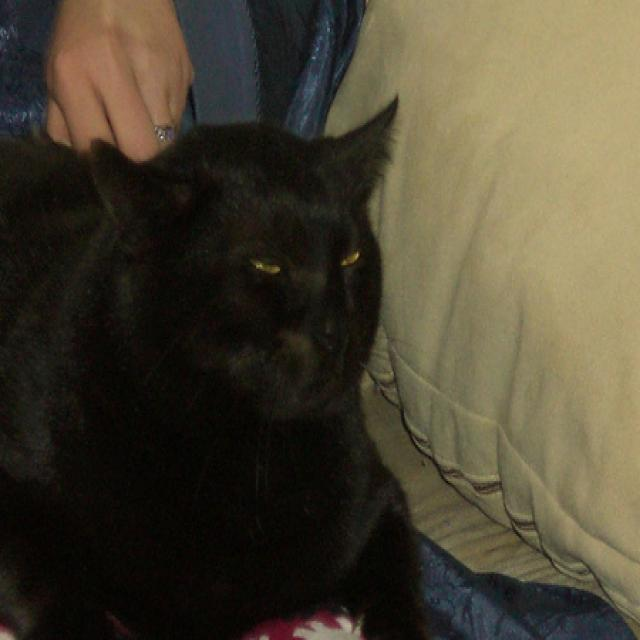Bombay: (0, 85, 435, 640)
